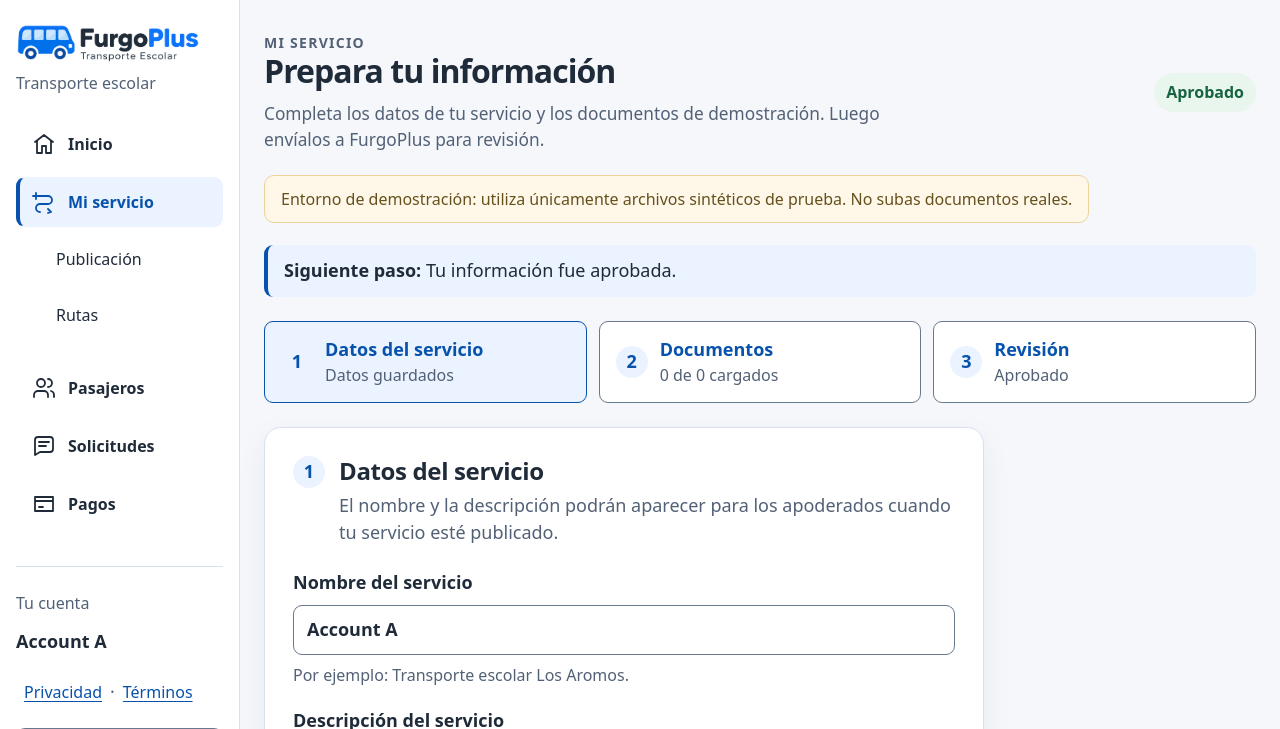
driver private-read expiry clears loaded forms, publication and summary; late summary and identity cannot restore them
Step 1. Click the button "Inicio" → (120, 144), box [16,119,223,169]
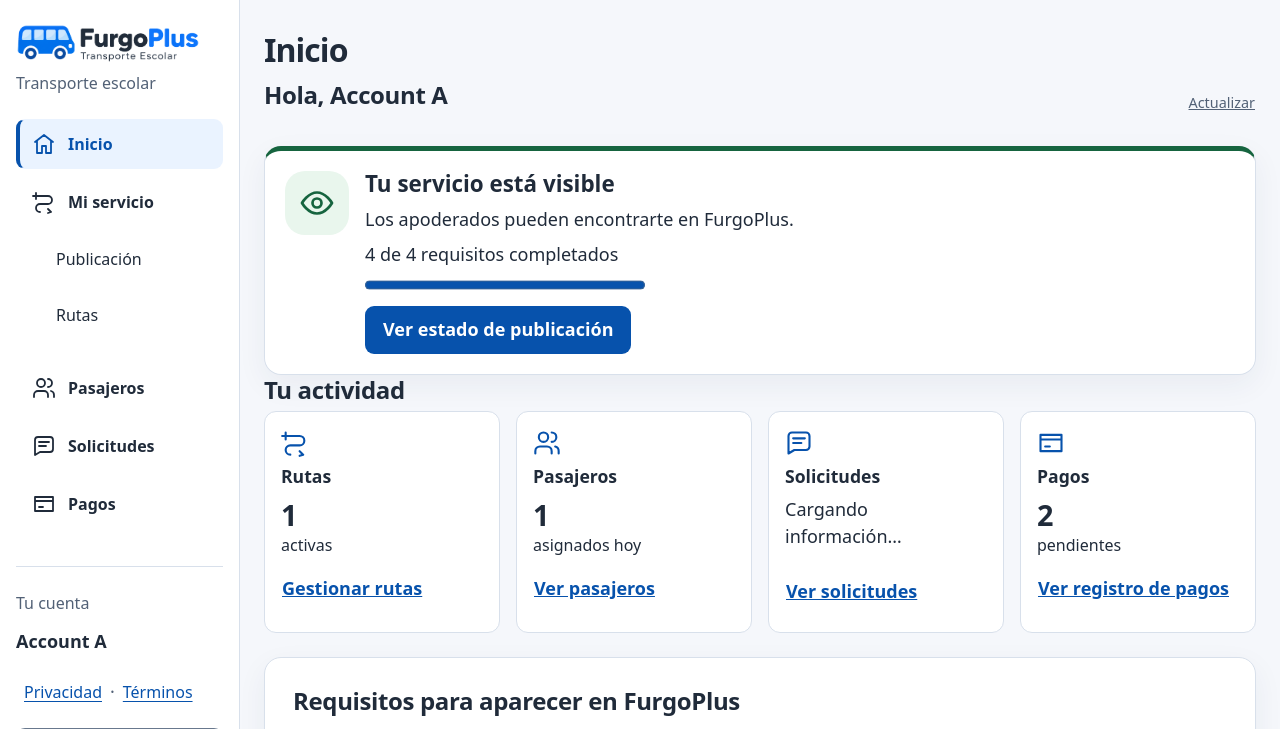
Result: the element named "Resumen de pagos" shows "2 pendientes" at [1020,411,1256,633]
Step 2. Click the button "Actualizar" → (1222, 104), box [1188,80,1256,128]
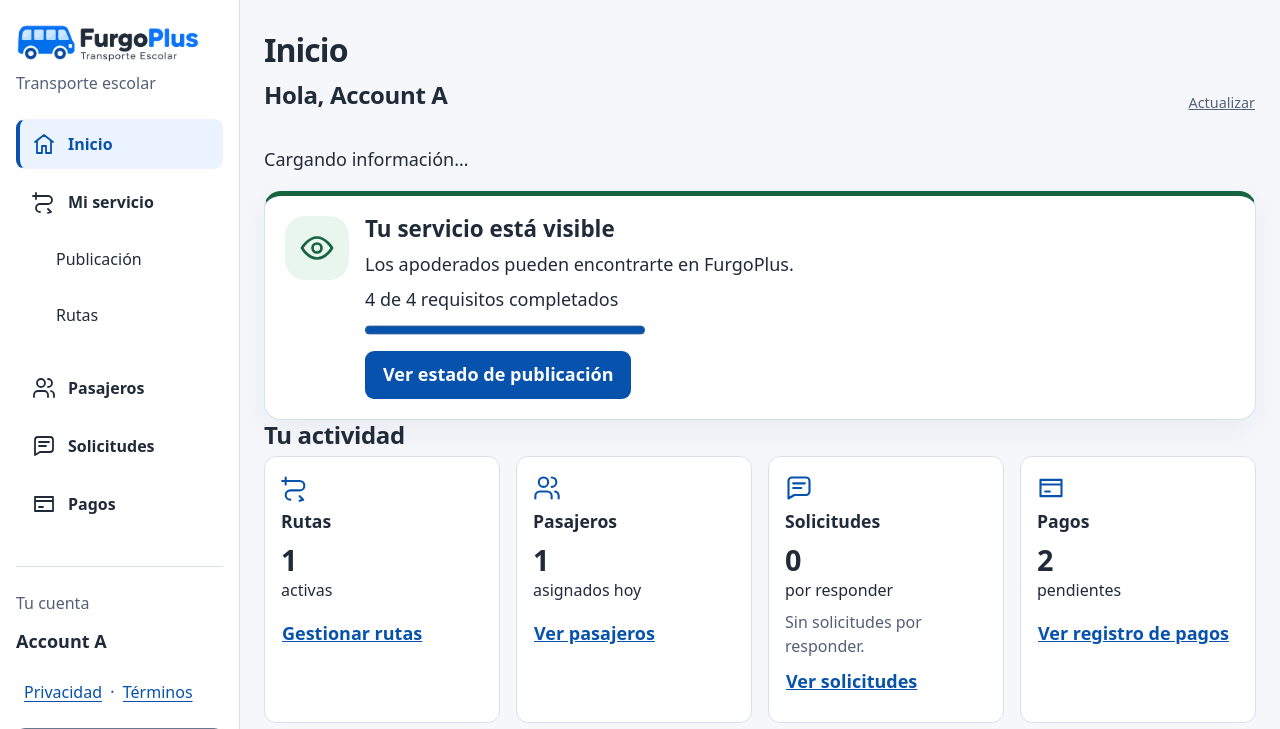
Step 3. Click the button "Actualizar" → (1222, 104), box [1188,80,1256,128]
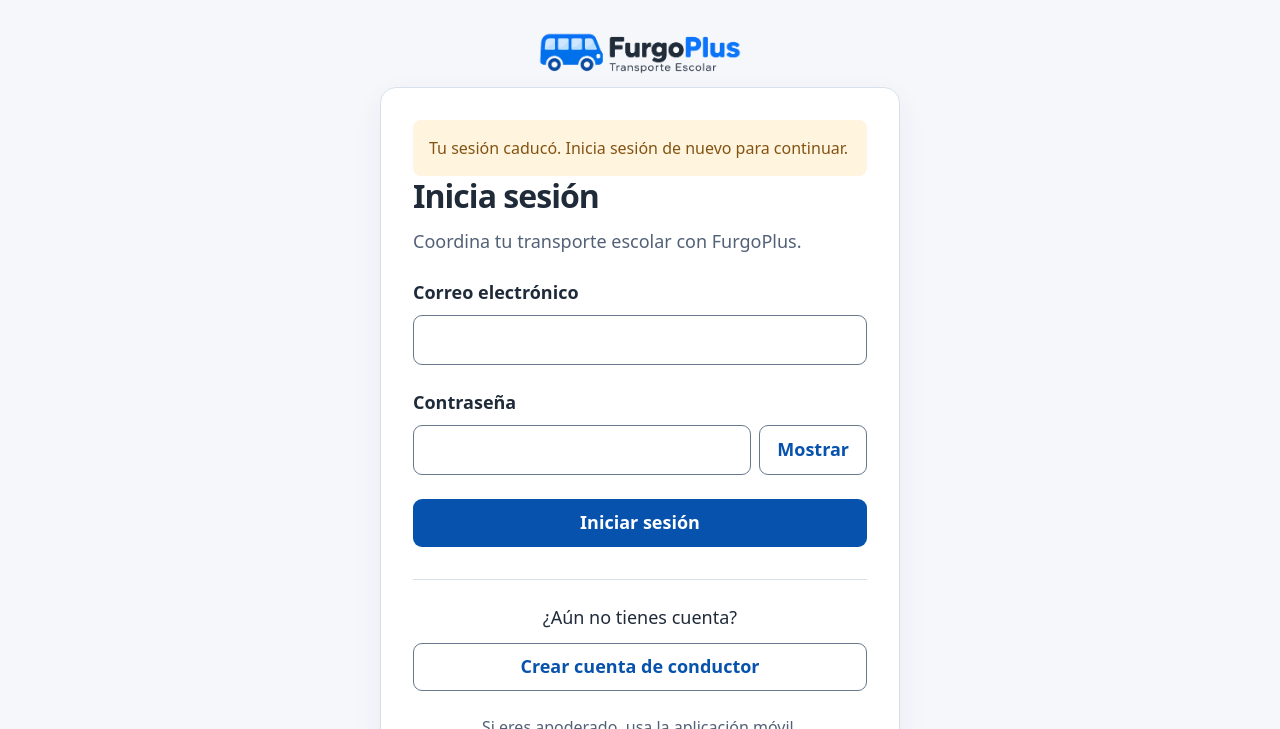
Result: the text "Tu sesión caducó. Inicia sesión de nuevo para continuar." is shown at [413,120,867,176]
